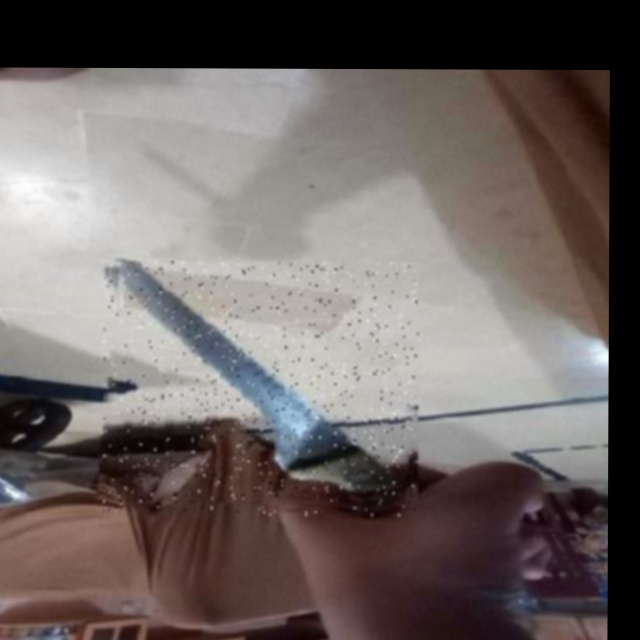Sharp-Object: (102, 262, 419, 517)
